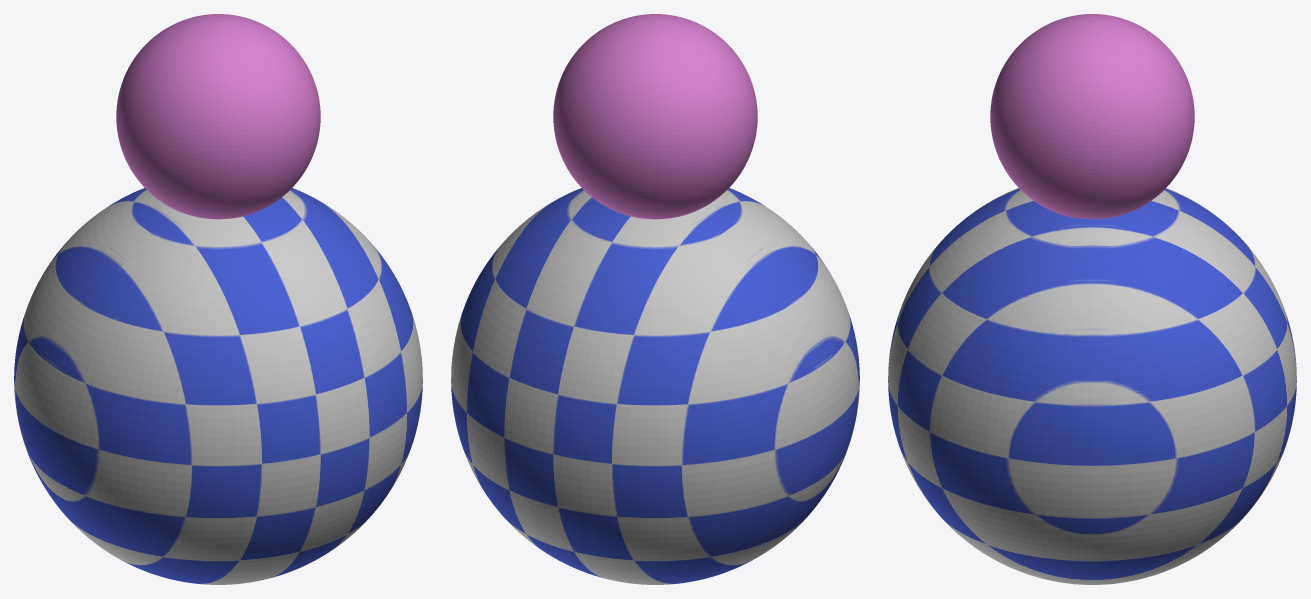
The model's file is BOD0_BMC0_BCC13_BPT4_FRC0_HEA0_HMC10_HCC0_HPT0_ELT0_ERT0_ELL0_ERL0_AP0_AAL0_AAR0_BEK0.fbx.
The picture shows the model from 3 angles, left to right: view 1: azimuth 30°, elevation 25°; view 2: azimuth 150°, elevation 25°; view 3: azimuth 270°, elevation 25°; orthographic projection.
Parts seen in each view (by area): view 1: Body, Head; view 2: Body, Head; view 3: Body, Head.
Part boxes in pixels (bbox=[...]): Body: bbox=[14, 188, 422, 584]; Head: bbox=[116, 14, 320, 219]; Body: bbox=[451, 188, 859, 584]; Head: bbox=[553, 14, 757, 219]; Body: bbox=[888, 188, 1296, 584]; Head: bbox=[990, 14, 1194, 219].
Size of the model in its own units: 98.72 by 145 by 98.72.
Materials: 2 (2 with a texture image).
